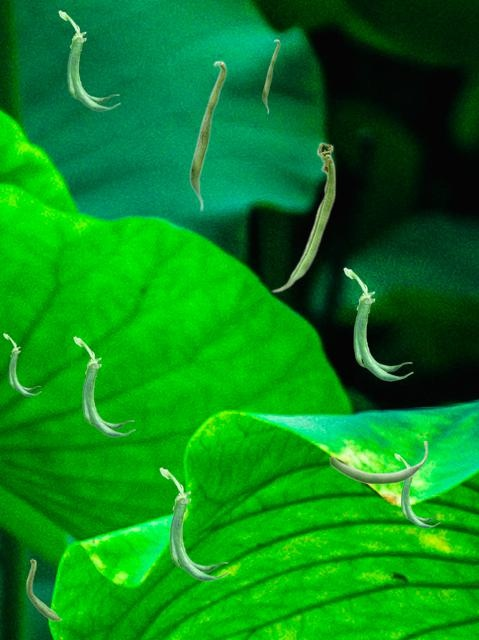french_bean: (271, 141, 335, 292), (343, 267, 412, 380), (159, 467, 228, 580), (73, 336, 134, 436), (58, 10, 119, 110), (189, 60, 226, 211), (329, 441, 427, 484), (394, 453, 439, 527), (3, 333, 40, 395), (26, 558, 61, 620), (262, 39, 279, 113)
